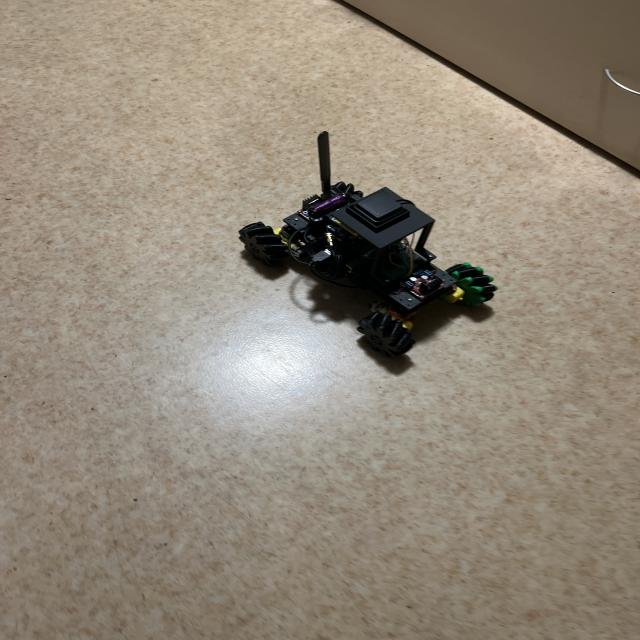robot: (239, 136, 497, 357)
